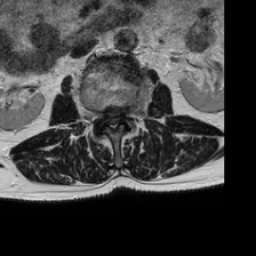CCS_severe_stenosis: (110, 101, 116, 134)
LFS_stenosis: (121, 104, 129, 124)
LLS_severe_stenosis: (116, 104, 121, 125)
RFS_stenosis: (97, 104, 103, 123)
RLS_severe_stenosis: (103, 105, 110, 124)
